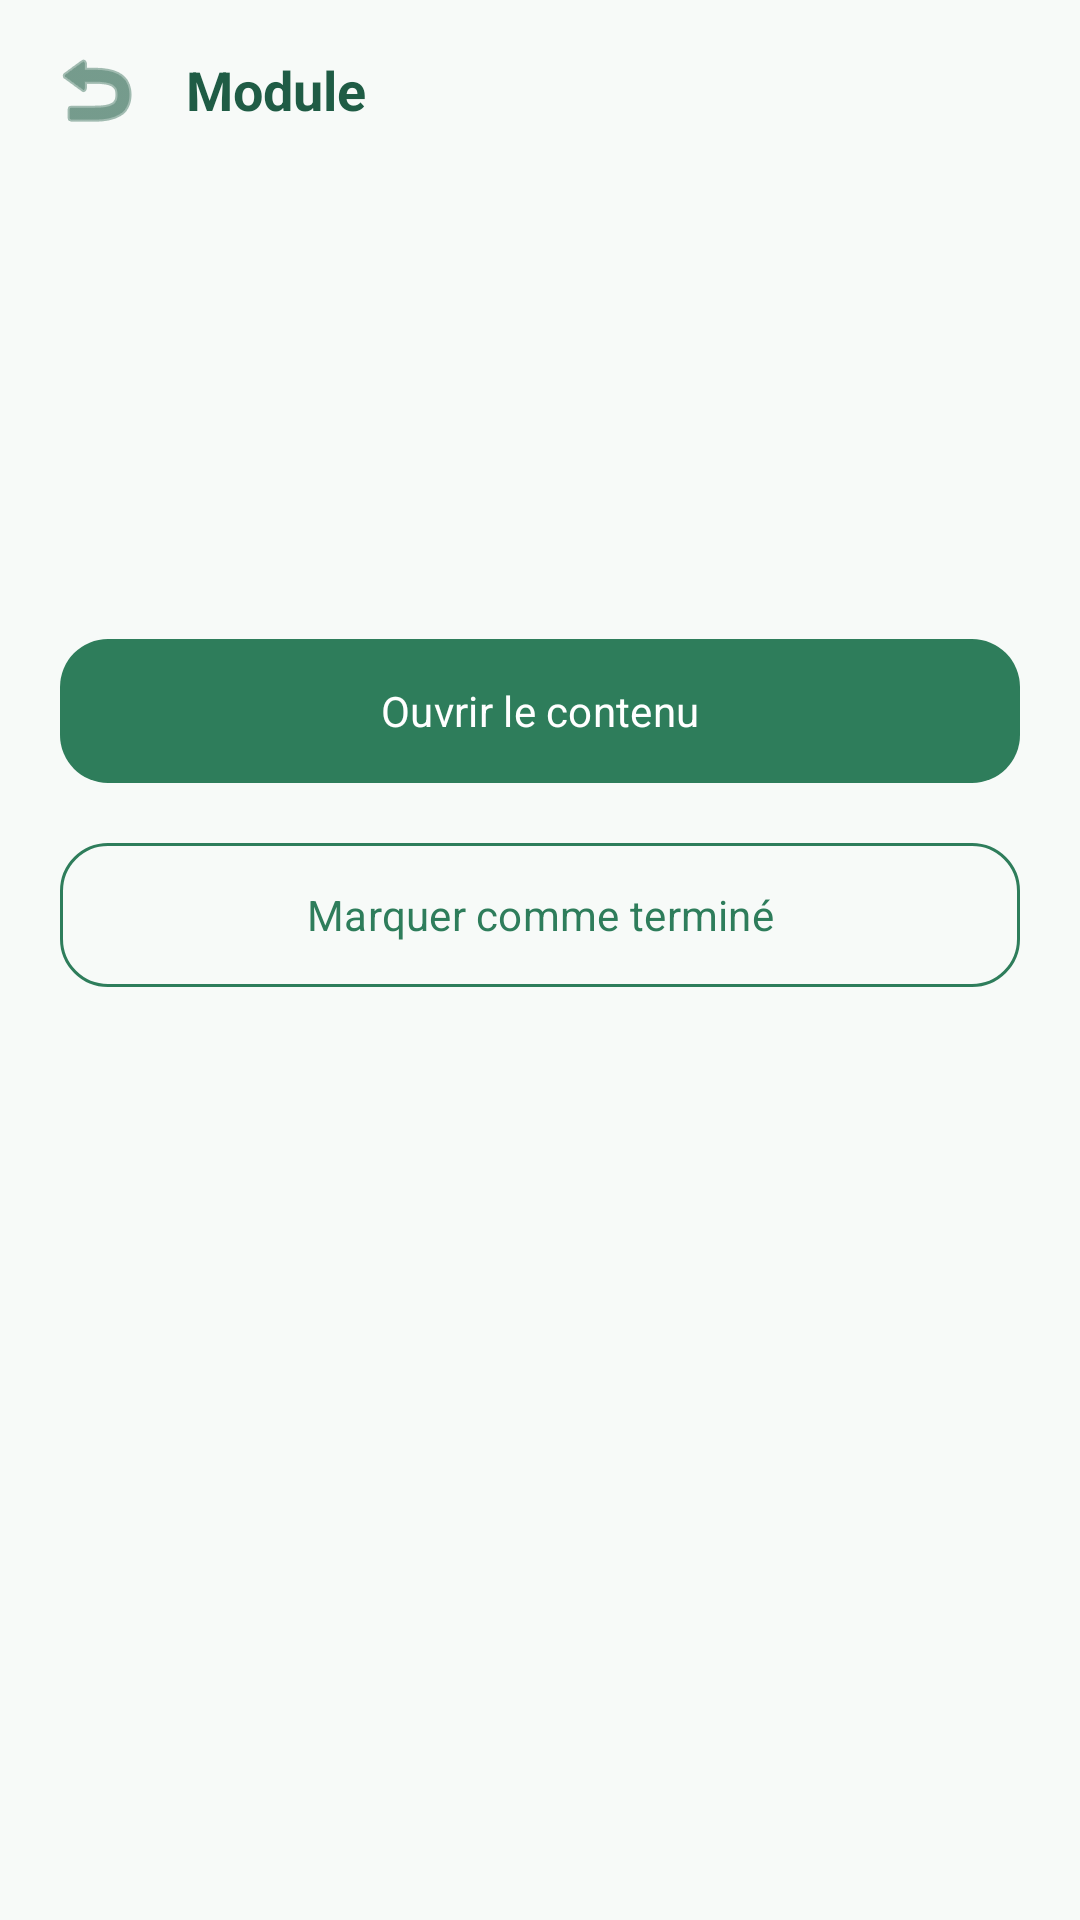

Where to tap for icons on this 1080w x 1920h app screen, as (x,y):
Retour: (97,90)
